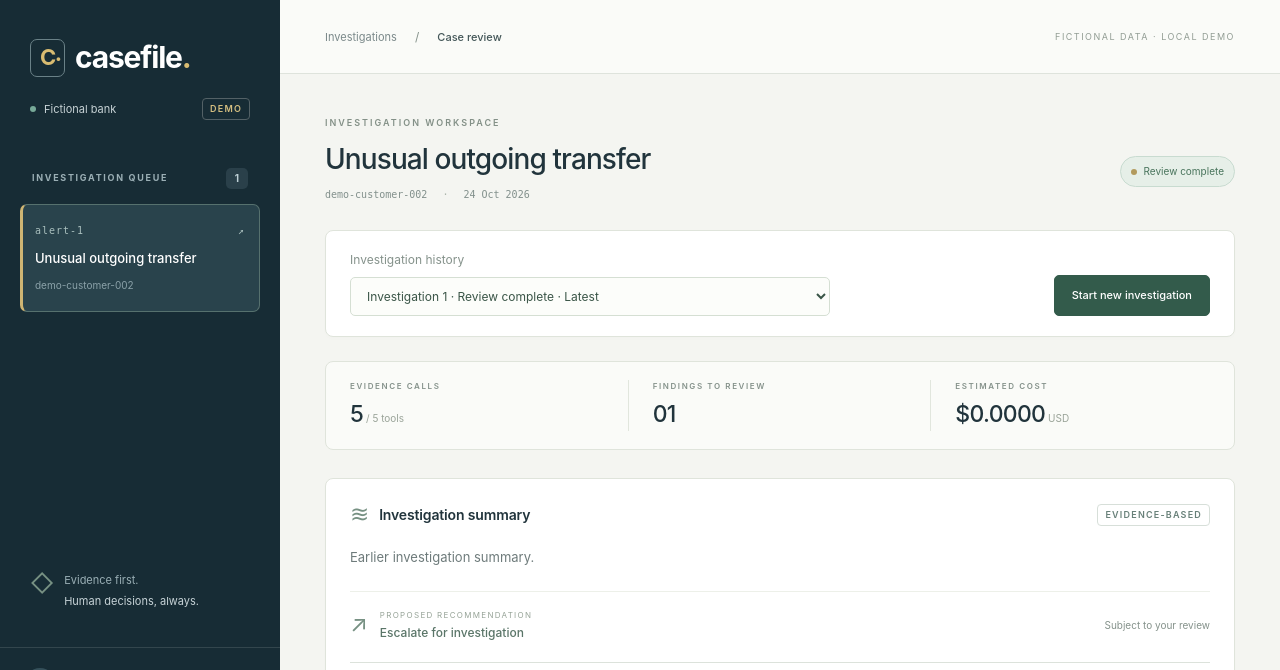
Test: investigation history › keeps the previous history accessible when starting a run fails
Click the button "Start new investigation": (1132, 295) [1054,275,1210,316]
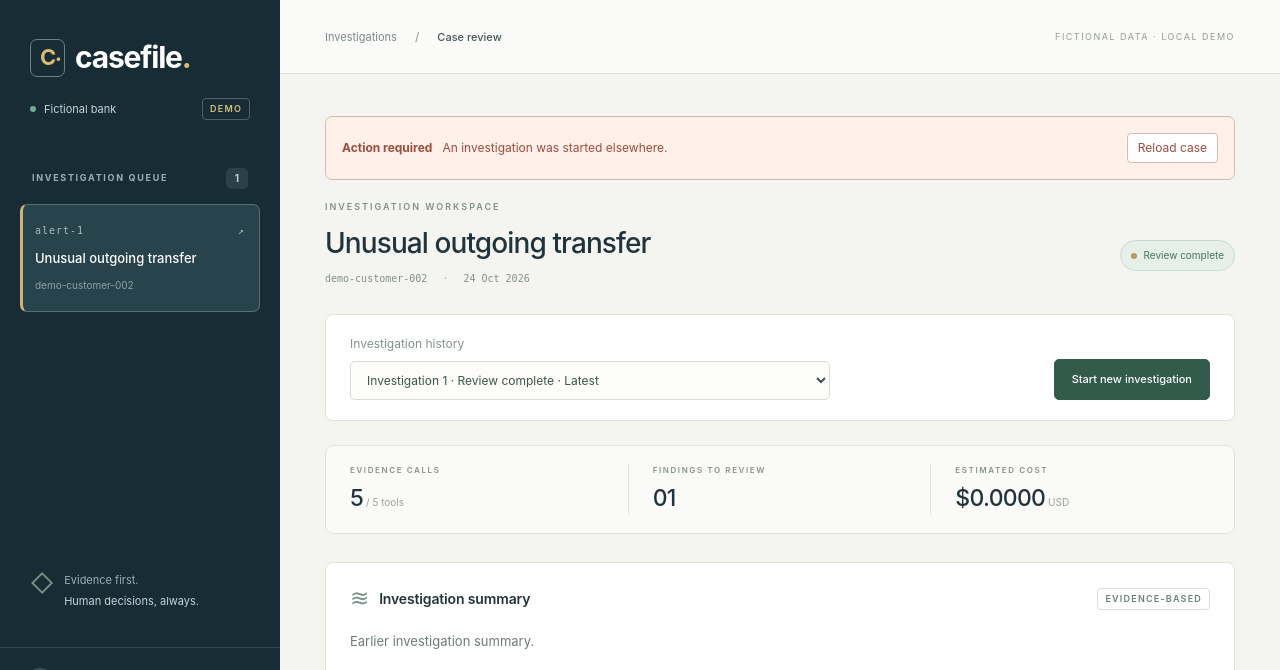
Check: the text "Earlier investigation summary." is shown, box [350,633,534,649]
Check: the message shows "started elsewhere", box [442,140,668,155]
